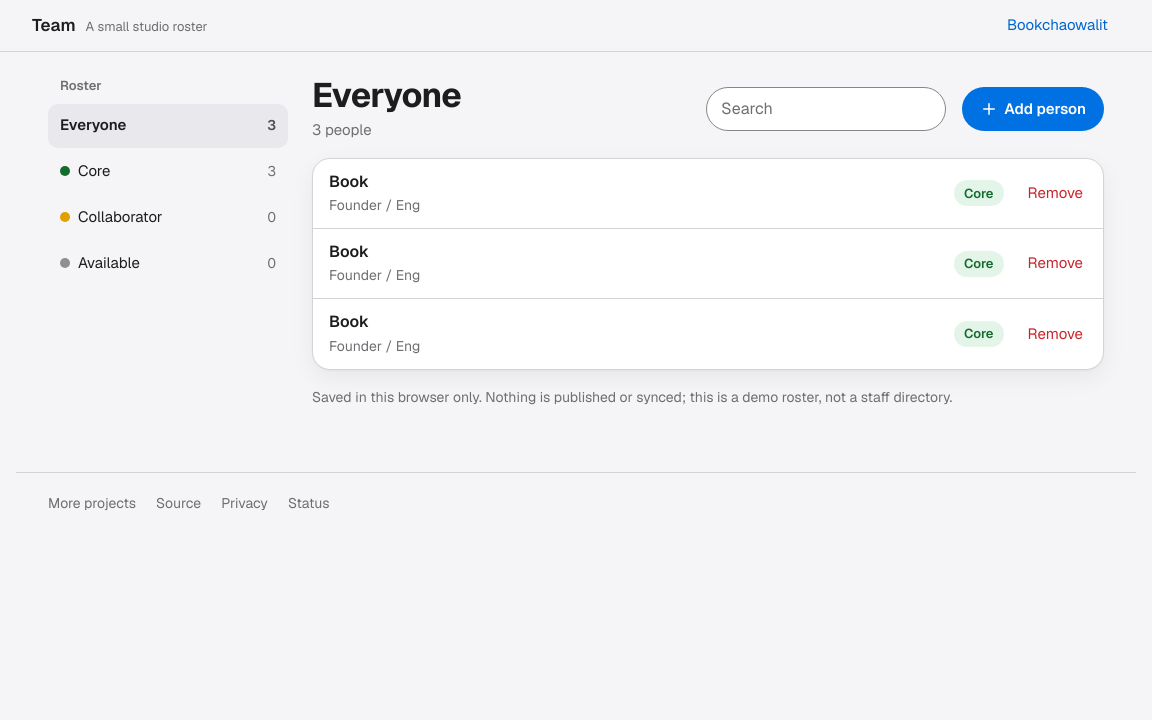
it: batch Undo › consecutive removes restore together with one Undo
Click the 2nd button with class "as-danger": {"x": 1055, "y": 264} [1016,242,1095,286]
Wait 4000 ms
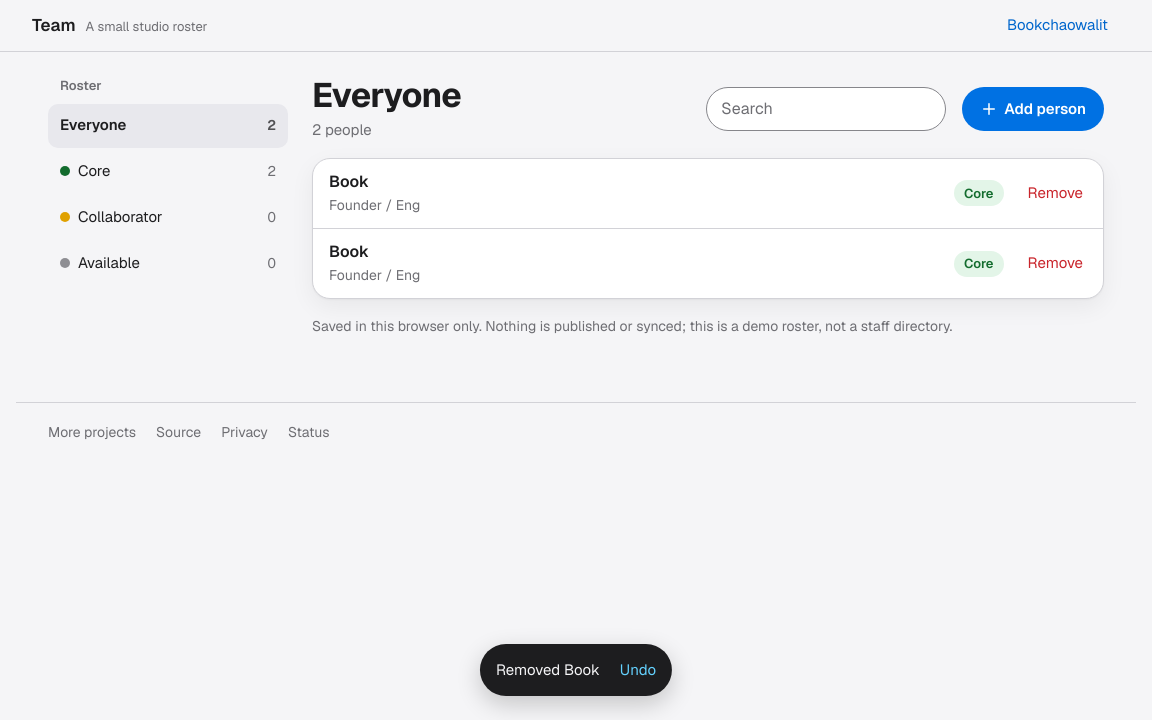
Click the 1st button with class "as-danger": {"x": 1055, "y": 193} [1016,171,1095,215]
Wait 4000 ms
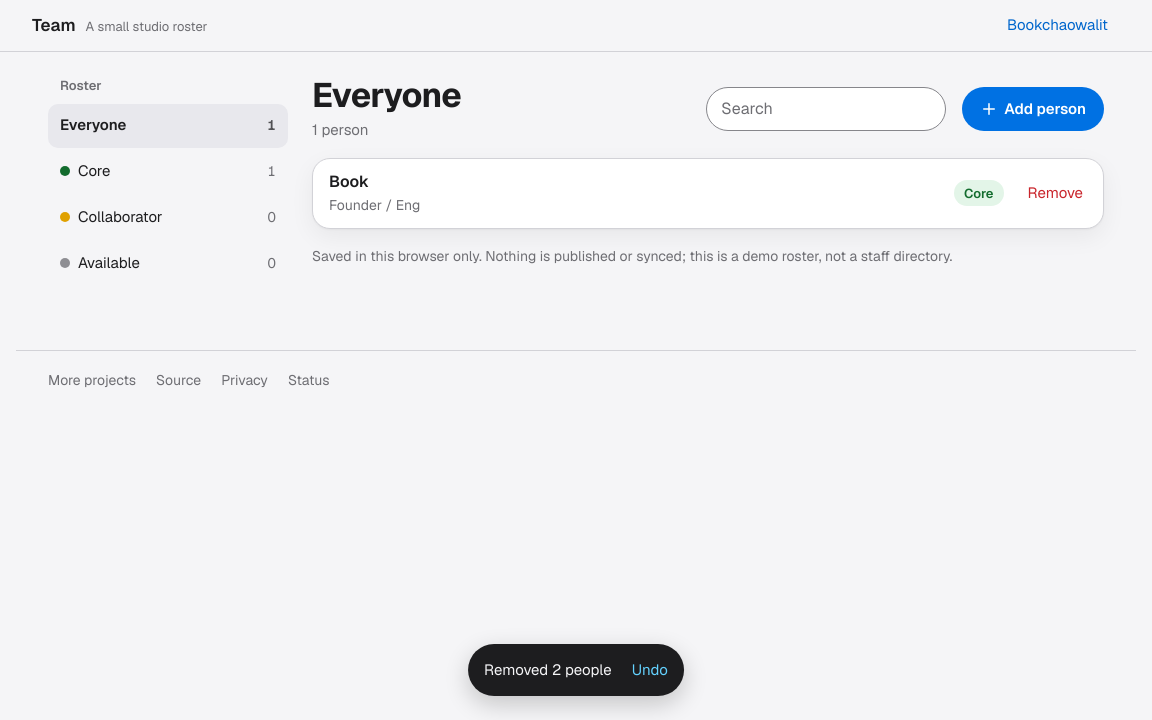
Expected: the text "Removed 2 people" is shown, [484,659,612,681]
Click the button "Undo": {"x": 650, "y": 670} [620,648,680,692]
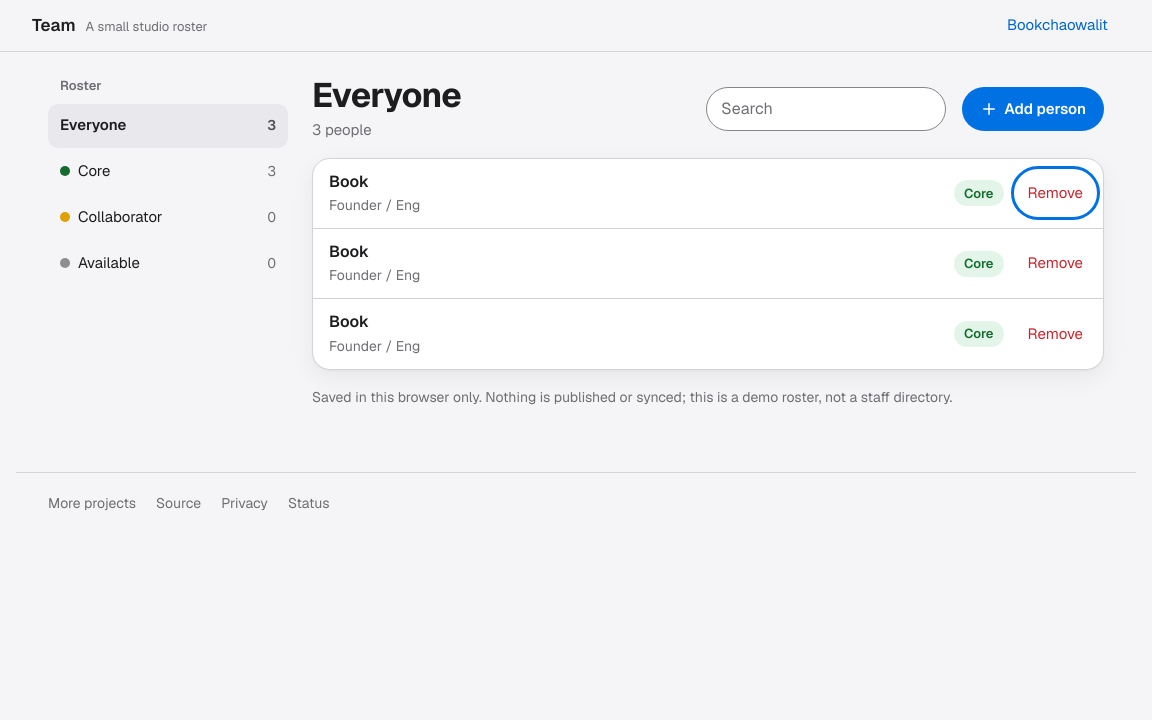
Expected: the element with class "as-toast" is gone
